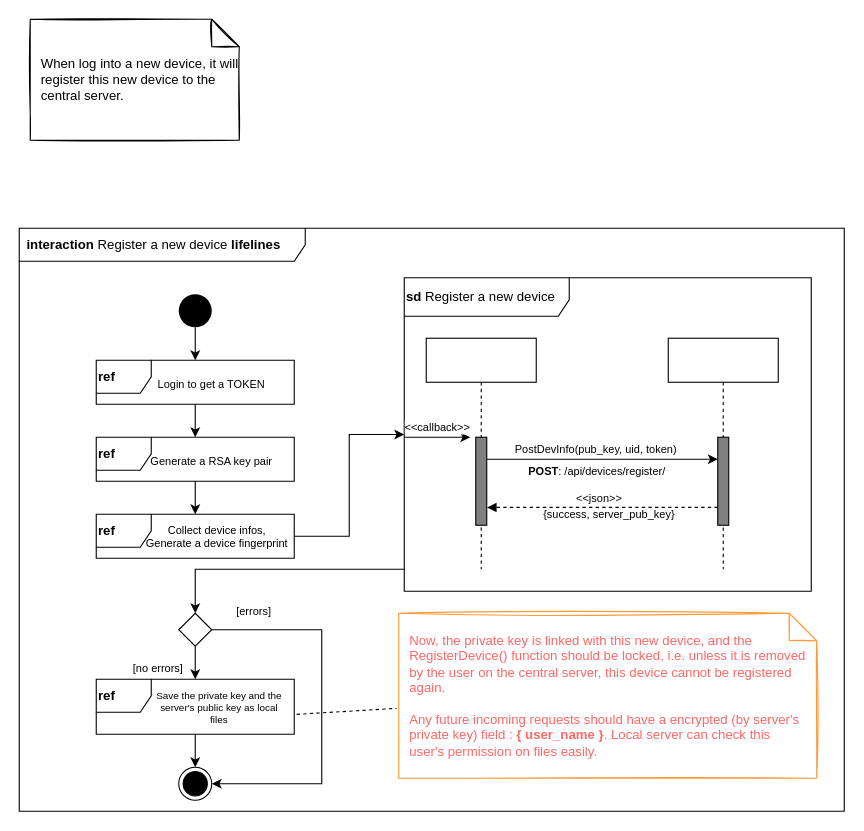
The diagram is 864 pixels wide and 831 high, and some of its shapes have lost their labels. Here are the shapes that lost their labels. From the top down, the box of each, then its label:
(425, 337, 536, 569): <<golang>> :RegisterDevice
(667, 337, 778, 569): <<service>> :DevicesService
